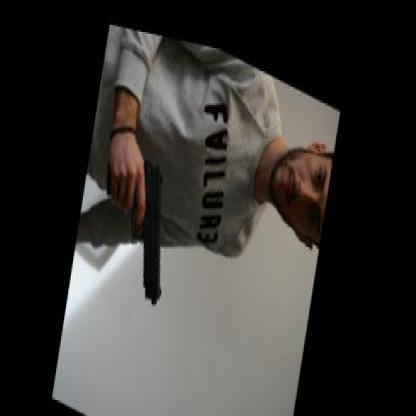pistol: (92, 132, 182, 302)
